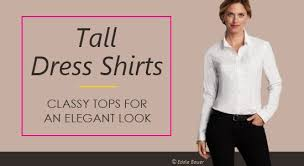F_W_pants: (198, 109, 275, 166)
F_shirt: (196, 28, 286, 127)
